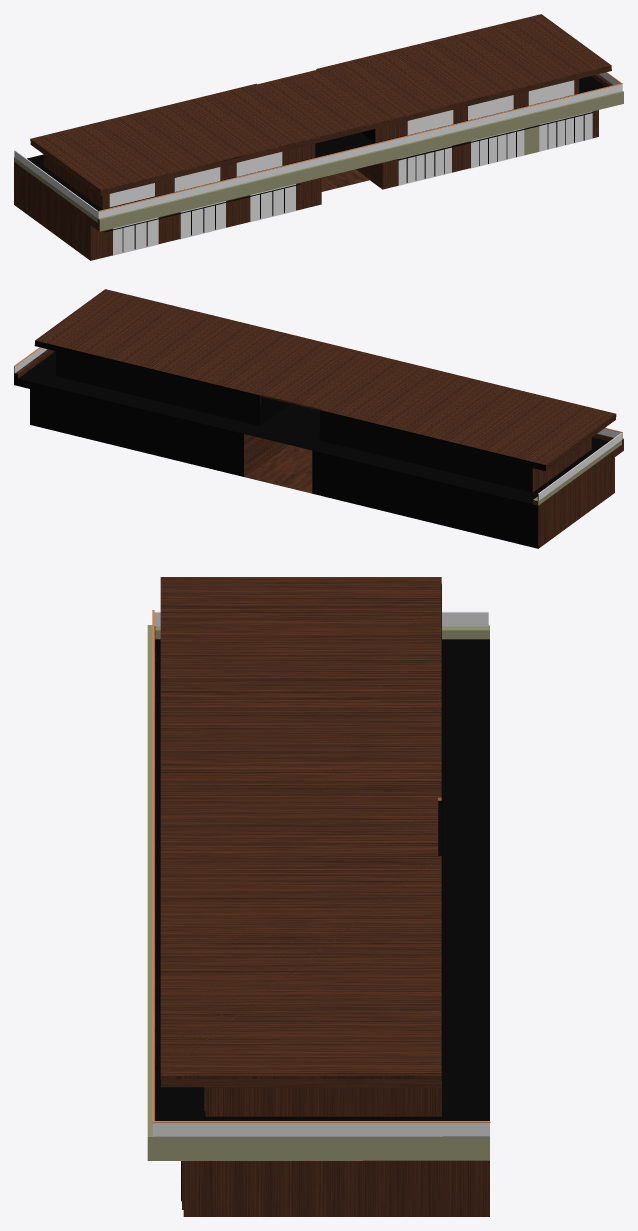
3 renders of one model, top to bottom at view 1: azimuth 30°, elevation 25°; view 2: azimuth 150°, elevation 25°; view 3: azimuth 270°, elevation 25°, orthographic. The views are drawn at different scales.
Visible parts, largest first — view 1: Cube.546; view 2: Cube.546; view 3: Cube.546.
Part boxes in pixels (x1,y1,x2,y2): Cube.546: (14, 14, 623, 260); Cube.546: (14, 289, 623, 548); Cube.546: (147, 577, 490, 1216).
Size of the model in its own units: 5915 by 795 by 1672.
Materials: 6 (1 with a texture image).
